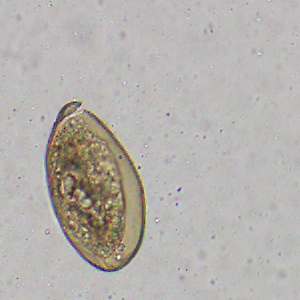Fasciola_hepatica_egg: (43, 100, 147, 273)
